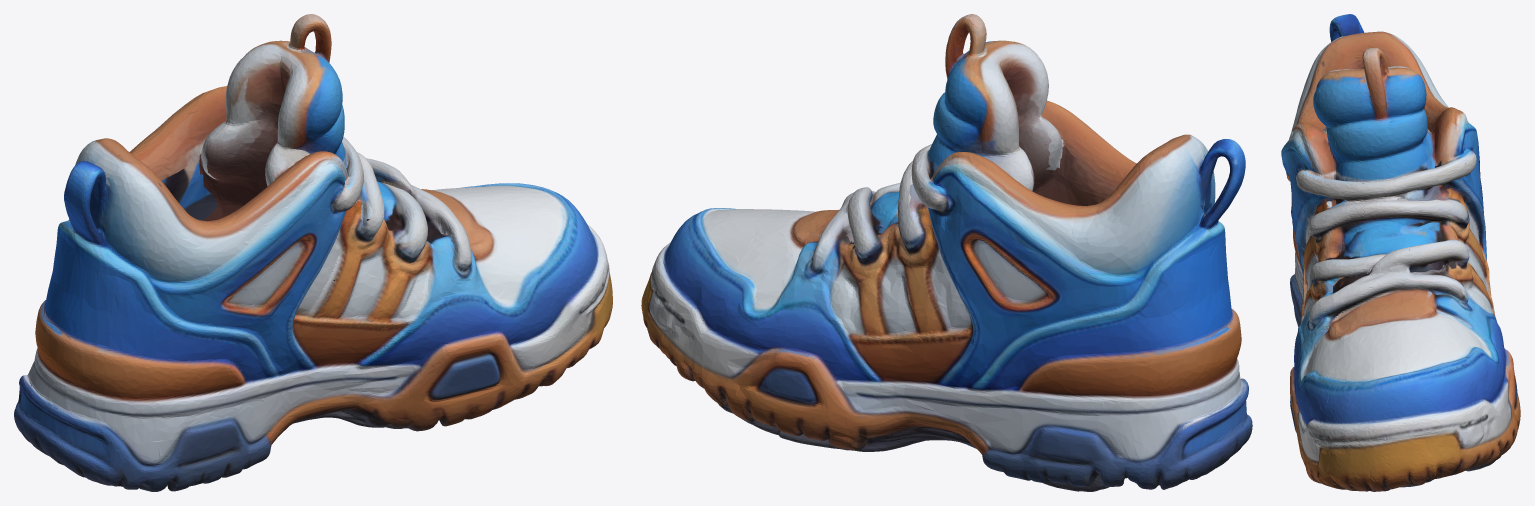
Rendered from rail_shoe.glb.
3 renders of one model, left to right at view 1: azimuth 30°, elevation 25°; view 2: azimuth 150°, elevation 25°; view 3: azimuth 270°, elevation 25°, orthographic. The views are drawn at different scales.
Visible parts, largest first — view 1: world; view 2: world; view 3: world.
Part boxes in pixels (x1=…): world: x1=14, y1=14, x2=612, y2=491; world: x1=641, y1=14, x2=1252, y2=491; world: x1=1281, y1=14, x2=1520, y2=491.
Size of the model in its own units: 1.99 by 1.39 by 0.8238.
Materials: 1 (1 with a texture image).
